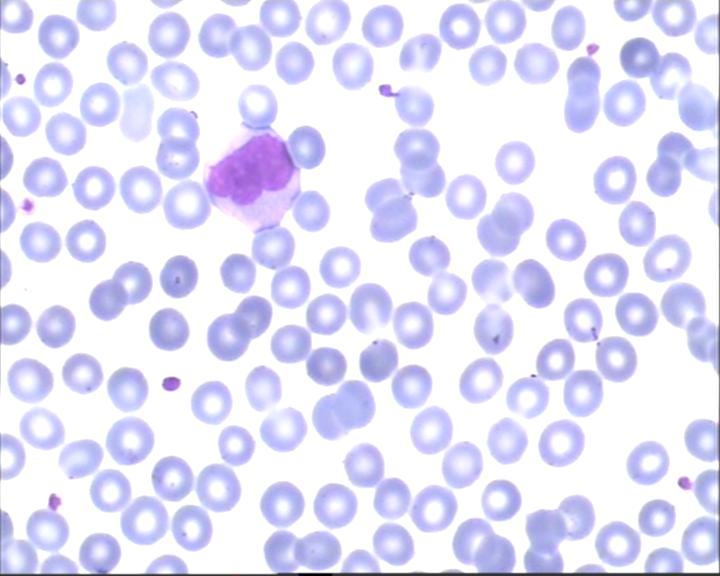mono: (197, 117, 301, 232)
